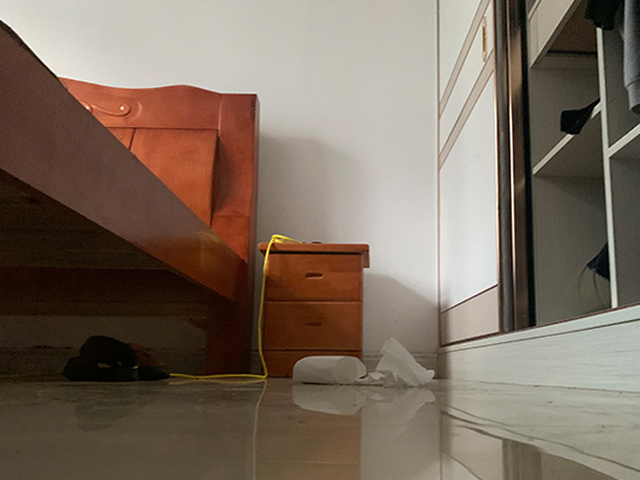bed: (1, 14, 259, 373)
cabinet: (436, 1, 640, 393), (259, 240, 371, 378)
wire: (169, 233, 292, 382)
